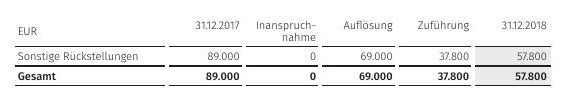table: (0, 0, 563, 96)
